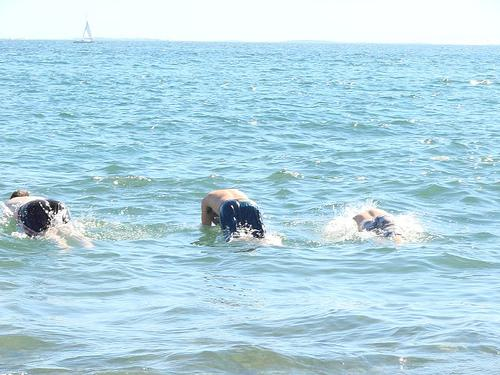swimmer: (198, 187, 268, 244), (8, 188, 74, 240), (354, 208, 409, 243)
